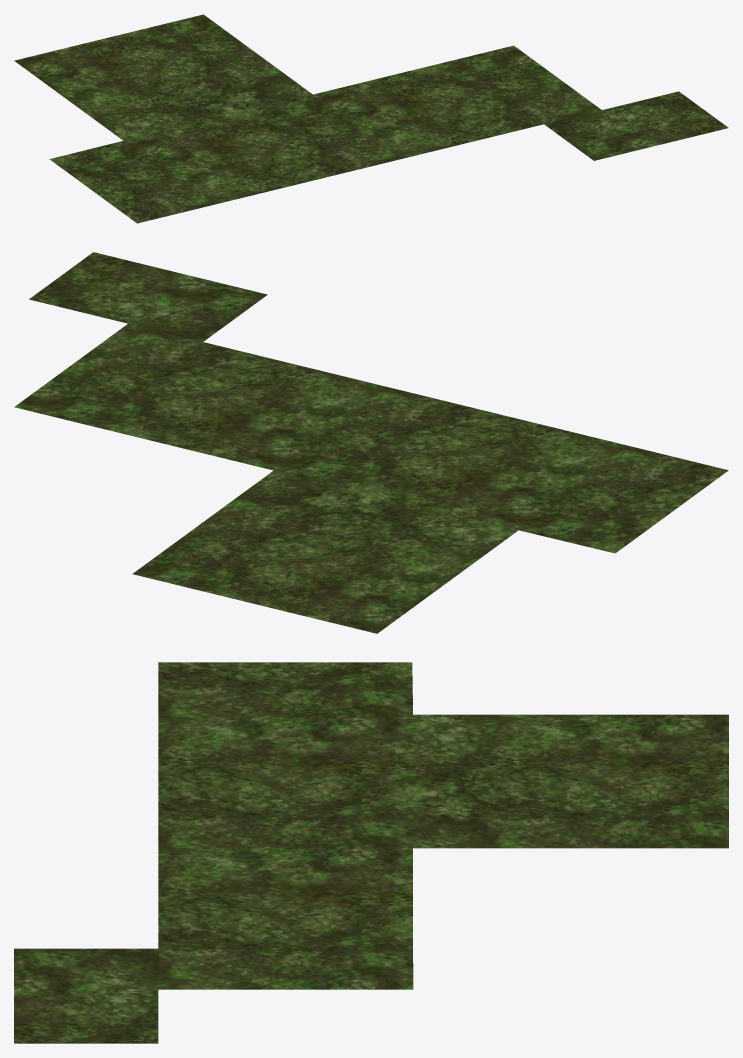
Rendered from OVERHILL_A_01_LINE228.fbx.
3 views of the same model, one above another, from view 1: azimuth 30°, elevation 25°; view 2: azimuth 150°, elevation 25°; view 3: azimuth 270°, elevation 25° (orthographic). The views are drawn at different scales.
Parts seen in each view (by area): view 1: OVERHILL_A_01_LINE228; view 2: OVERHILL_A_01_LINE228; view 3: OVERHILL_A_01_LINE228.
Boxes of the visible parts, x1,y1,x2,y2 form: OVERHILL_A_01_LINE228: [14, 14, 728, 223]; OVERHILL_A_01_LINE228: [14, 252, 728, 633]; OVERHILL_A_01_LINE228: [14, 662, 728, 1043].
Bounding box in the file's own units: 93224 × 0.0555 × 73851.
1 material, 1 textured.
